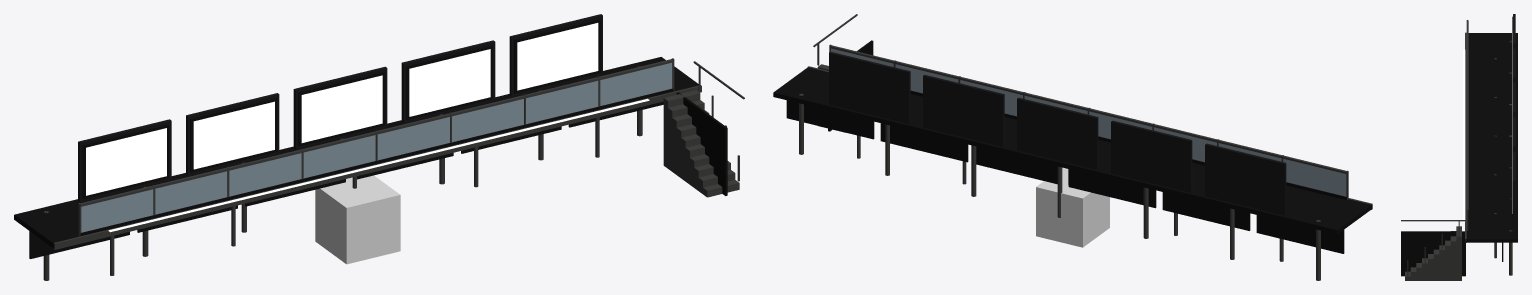
Rendered from sorl-observation-deck.glb.
The picture shows the model from 3 angles, left to right: view 1: azimuth 30°, elevation 25°; view 2: azimuth 150°, elevation 25°; view 3: azimuth 270°, elevation 25°; orthographic projection. The views are drawn at different scales.
Visible parts, largest first — view 1: DECK_RailGlass, Cube, DECK_Fascia, DECK_EvidenceGlow_3, DECK_EvidenceGlow_1, DECK_EvidenceGlow_2, DECK_EvidenceGlow_4, DECK_EvidenceGlow_0, DECK_Slab, DECK_RailTop, DECK_RailKick, DECK_StairStringer (+16 smaller); view 2: DECK_Slab, DECK_EvidenceWall_0, DECK_EvidenceWall_1, DECK_EvidenceWall_3, DECK_EvidenceWall_2, DECK_EvidenceWall_4, DECK_RailGlass, Cube, DECK_RailTop, DECK_Skirt_0, DECK_Skirt_2, DECK_Skirt_1 (+4 smaller); view 3: DECK_Slab, DECK_StairStringer, DECK_RailTop, DECK_EdgeGlow, DECK_Fascia, DECK_Step_9, DECK_Step_8, DECK_Step_7, DECK_Step_5, DECK_Step_6, DECK_EvidenceWall_4, DECK_Step_4 (+9 smaller).
Part boxes in pixels (x1=…): DECK_RailGlass: x1=81, y1=62, x2=672, y2=232; Cube: x1=315, y1=175, x2=400, y2=264; DECK_Fascia: x1=53, y1=85, x2=701, y2=249; DECK_EvidenceGlow_3: x1=409, y1=49, x2=490, y2=116; DECK_EvidenceGlow_1: x1=193, y1=101, x2=274, y2=169; DECK_EvidenceGlow_2: x1=301, y1=75, x2=382, y2=142; DECK_EvidenceGlow_4: x1=517, y1=23, x2=598, y2=90; DECK_EvidenceGlow_0: x1=86, y1=128, x2=166, y2=195; DECK_Slab: x1=14, y1=57, x2=698, y2=248; DECK_RailTop: x1=80, y1=59, x2=673, y2=206; DECK_RailKick: x1=80, y1=88, x2=673, y2=236; DECK_StairStringer: x1=676, y1=92, x2=727, y2=195; DECK_Slab: x1=773, y1=67, x2=1372, y2=234; DECK_EvidenceWall_0: x1=1205, y1=143, x2=1286, y2=215; DECK_EvidenceWall_1: x1=1111, y1=120, x2=1192, y2=192; DECK_EvidenceWall_3: x1=923, y1=74, x2=1004, y2=146; DECK_EvidenceWall_2: x1=1017, y1=97, x2=1098, y2=169; DECK_EvidenceWall_4: x1=829, y1=51, x2=910, y2=123; DECK_RailGlass: x1=831, y1=48, x2=1346, y2=196; Cube: x1=1036, y1=167, x2=1109, y2=247; DECK_RailTop: x1=829, y1=45, x2=1346, y2=174; DECK_Skirt_0: x1=1256, y1=215, x2=1344, y2=253; DECK_Skirt_2: x1=1068, y1=169, x2=1156, y2=208; DECK_Skirt_1: x1=1162, y1=192, x2=1250, y2=230; DECK_Slab: x1=1465, y1=33, x2=1517, y2=242; DECK_StairStringer: x1=1401, y1=231, x2=1465, y2=276; DECK_RailTop: x1=1466, y1=20, x2=1468, y2=210; DECK_EdgeGlow: x1=1463, y1=49, x2=1465, y2=221; DECK_Fascia: x1=1465, y1=32, x2=1466, y2=242; DECK_Step_9: x1=1456, y1=226, x2=1461, y2=280; DECK_Step_8: x1=1450, y1=231, x2=1456, y2=280; DECK_Step_7: x1=1445, y1=240, x2=1450, y2=280; DECK_Step_5: x1=1433, y1=249, x2=1439, y2=280; DECK_Step_6: x1=1439, y1=245, x2=1444, y2=280; DECK_EvidenceWall_4: x1=1513, y1=151, x2=1515, y2=219; DECK_Step_4: x1=1428, y1=254, x2=1433, y2=280.
Bounding box in the file's own units: 24 × 5.5 × 5.75.
